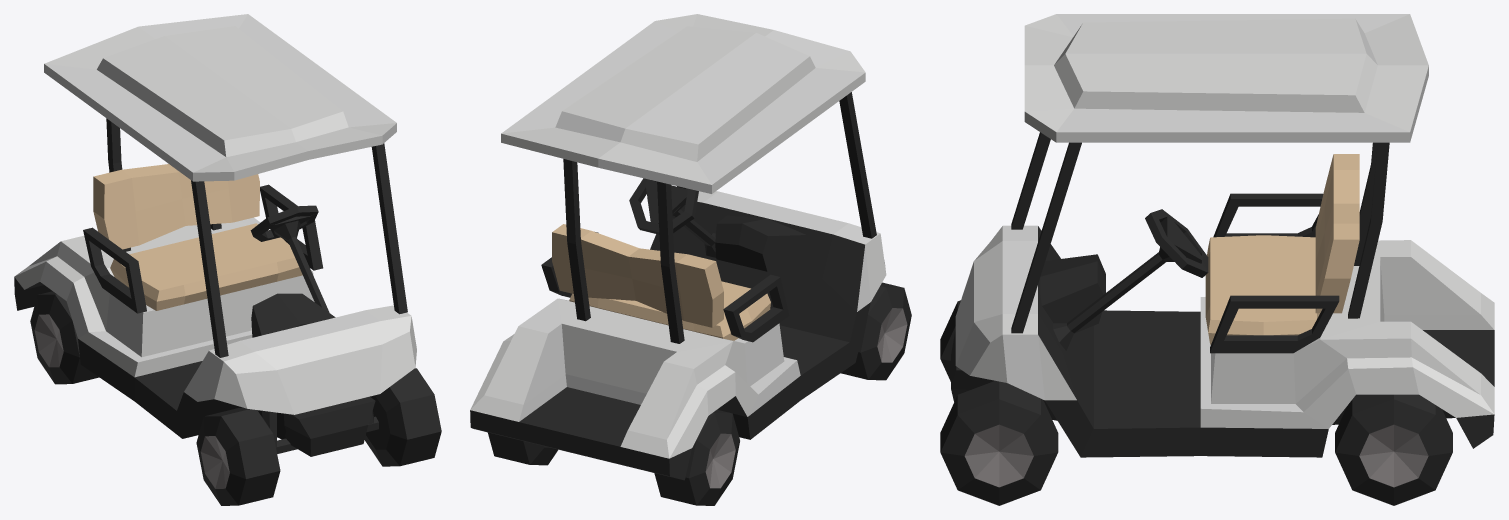
File: golf-cart.glb
The picture shows the model from 3 angles, left to right: view 1: azimuth 30°, elevation 25°; view 2: azimuth 150°, elevation 25°; view 3: azimuth 270°, elevation 25°; orthographic projection. The views are drawn at different scales.
Visible parts, largest first — view 1: golf-cart-base, golf-cart-wheel_FR, golf-cart-wheel_FL, golf-cart-wheel_BR; view 2: golf-cart-base, golf-cart-wheel_BR, golf-cart-wheel_FR, golf-cart-wheel_BL; view 3: golf-cart-base, golf-cart-wheel_FL, golf-cart-wheel_BL, golf-cart-wheel_FR.
Boxes of the visible parts, bbox=[...] form: golf-cart-base: bbox=[14, 14, 416, 456]; golf-cart-wheel_FR: bbox=[196, 408, 280, 505]; golf-cart-wheel_FL: bbox=[364, 368, 441, 466]; golf-cart-wheel_BR: bbox=[30, 291, 99, 384]; golf-cart-base: bbox=[470, 14, 886, 480]; golf-cart-wheel_BR: bbox=[654, 409, 739, 505]; golf-cart-wheel_FR: bbox=[841, 282, 911, 380]; golf-cart-wheel_BL: bbox=[487, 432, 557, 465]; golf-cart-base: bbox=[951, 14, 1494, 457]; golf-cart-wheel_FL: bbox=[940, 381, 1058, 505]; golf-cart-wheel_BL: bbox=[1335, 394, 1452, 505]; golf-cart-wheel_FR: bbox=[940, 300, 960, 381].
Bounding box in the file's own units: 1.23 × 1.88 × 2.39.
Materials: 1 (1 with a texture image).
